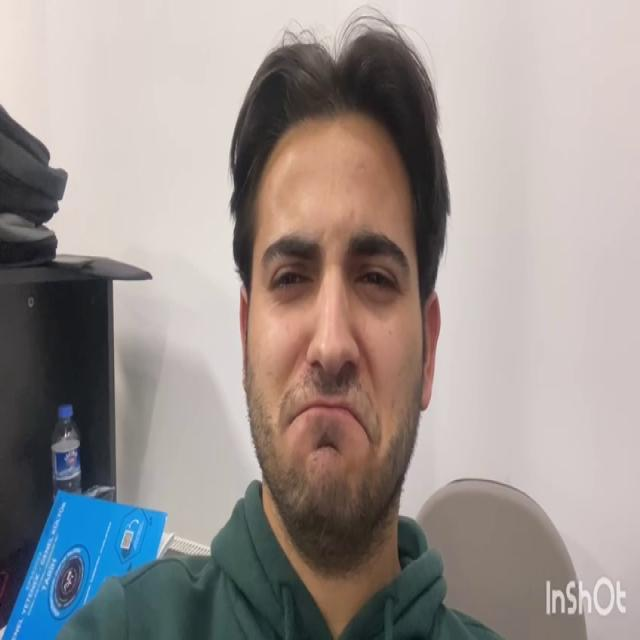sad: (244, 152, 426, 522)
